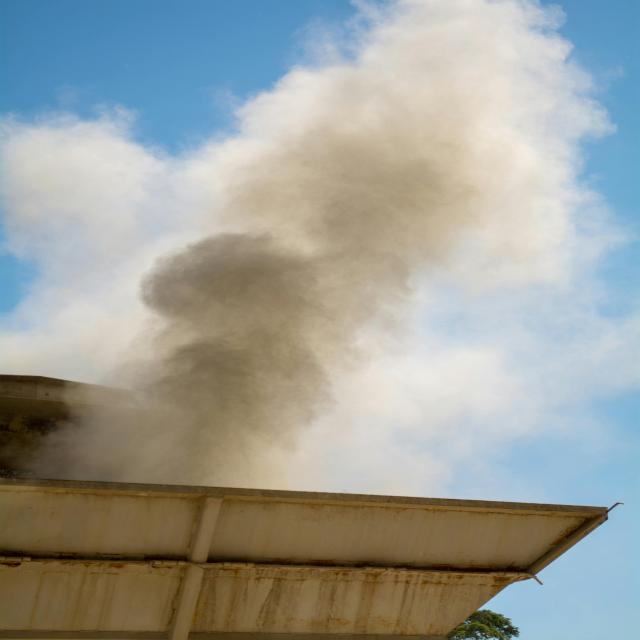smoke: (8, 105, 630, 479), (272, 2, 614, 98)
